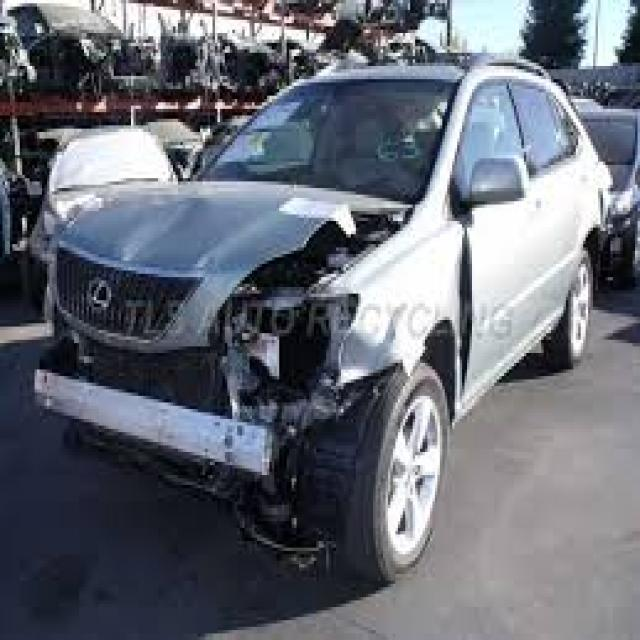severe: (25, 146, 466, 494)
